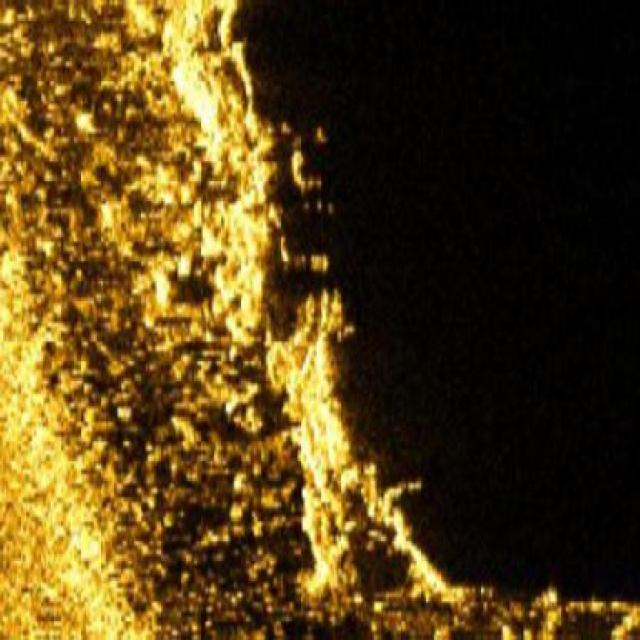bedrock group: (0, 0, 347, 638)
